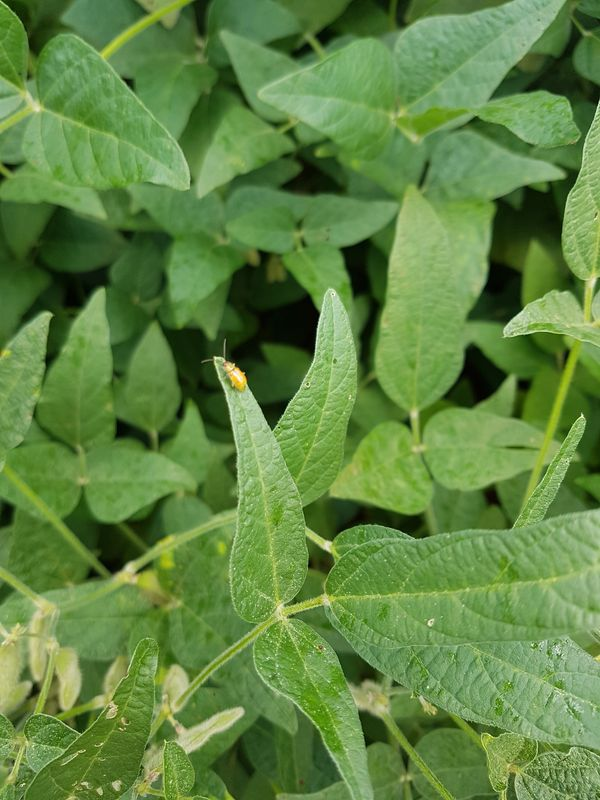Diabrotica_speciosa: (203, 340, 259, 396)
